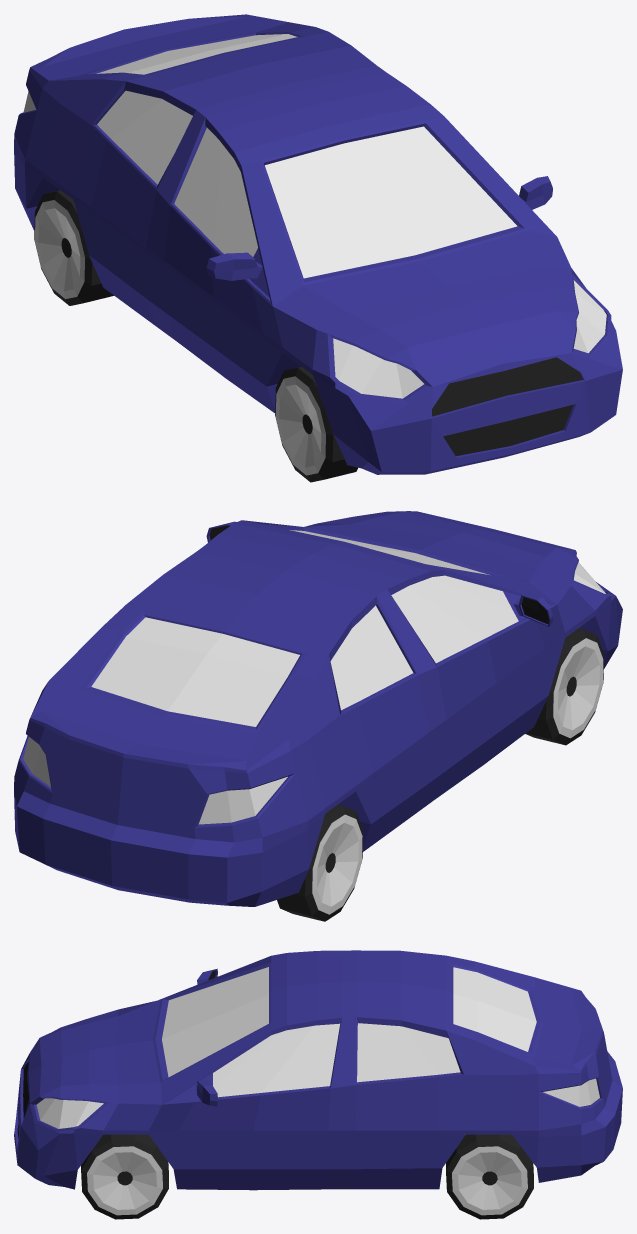
The model's file is 1blue.fbx.
3 views of the same model, one above another, from view 1: azimuth 30°, elevation 25°; view 2: azimuth 150°, elevation 25°; view 3: azimuth 270°, elevation 25° (orthographic). The views are drawn at different scales.
Visible parts, largest first — view 1: Cylinder; view 2: Cylinder; view 3: Cylinder.
Part boxes in pixels (x1=…): Cylinder: x1=14, y1=14, x2=622, y2=482; Cylinder: x1=14, y1=511, x2=622, y2=921; Cylinder: x1=14, y1=950, x2=622, y2=1219.
Size of the model in its own units: 147 by 101 by 297.
